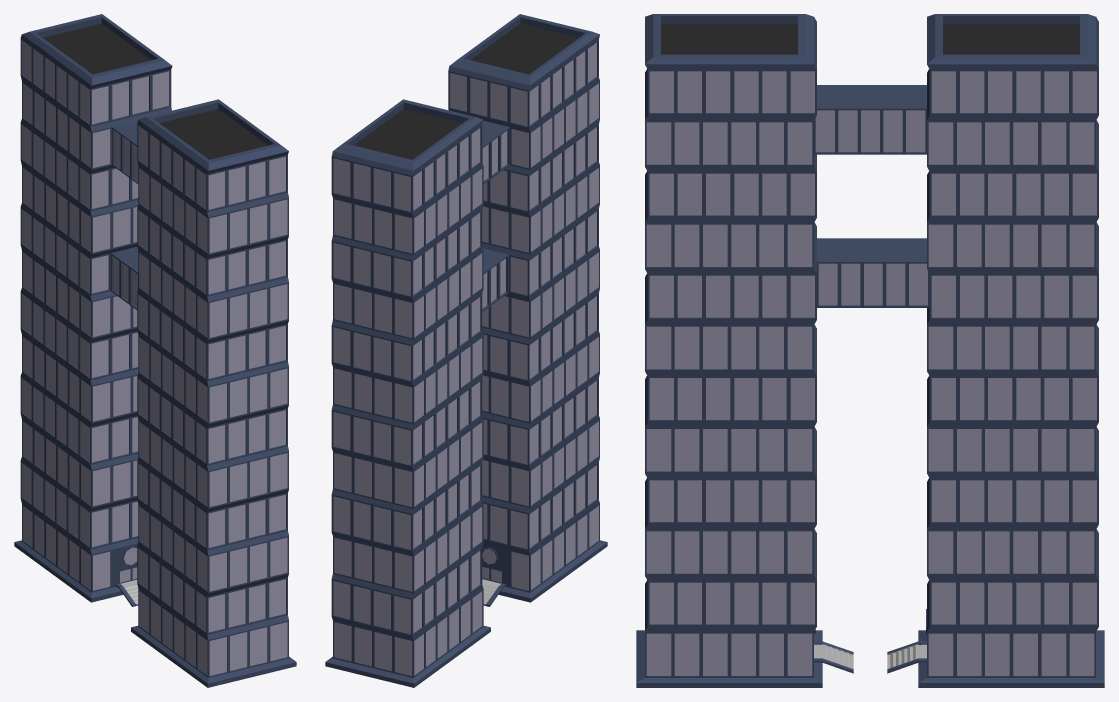
Rendered from Building2.fbx.
The picture shows the model from 3 angles, left to right: view 1: azimuth 30°, elevation 25°; view 2: azimuth 150°, elevation 25°; view 3: azimuth 270°, elevation 25°; orthographic projection. The views are drawn at different scales.
Visible parts, largest first — view 1: Building; view 2: Building; view 3: Building.
Part boxes in pixels (x1=…): Building: x1=14, y1=14, x2=296, y2=687; Building: x1=325, y1=14, x2=607, y2=687; Building: x1=636, y1=14, x2=1104, y2=687.
Bounding box in the file's own units: 1281 × 7158 × 4833.
